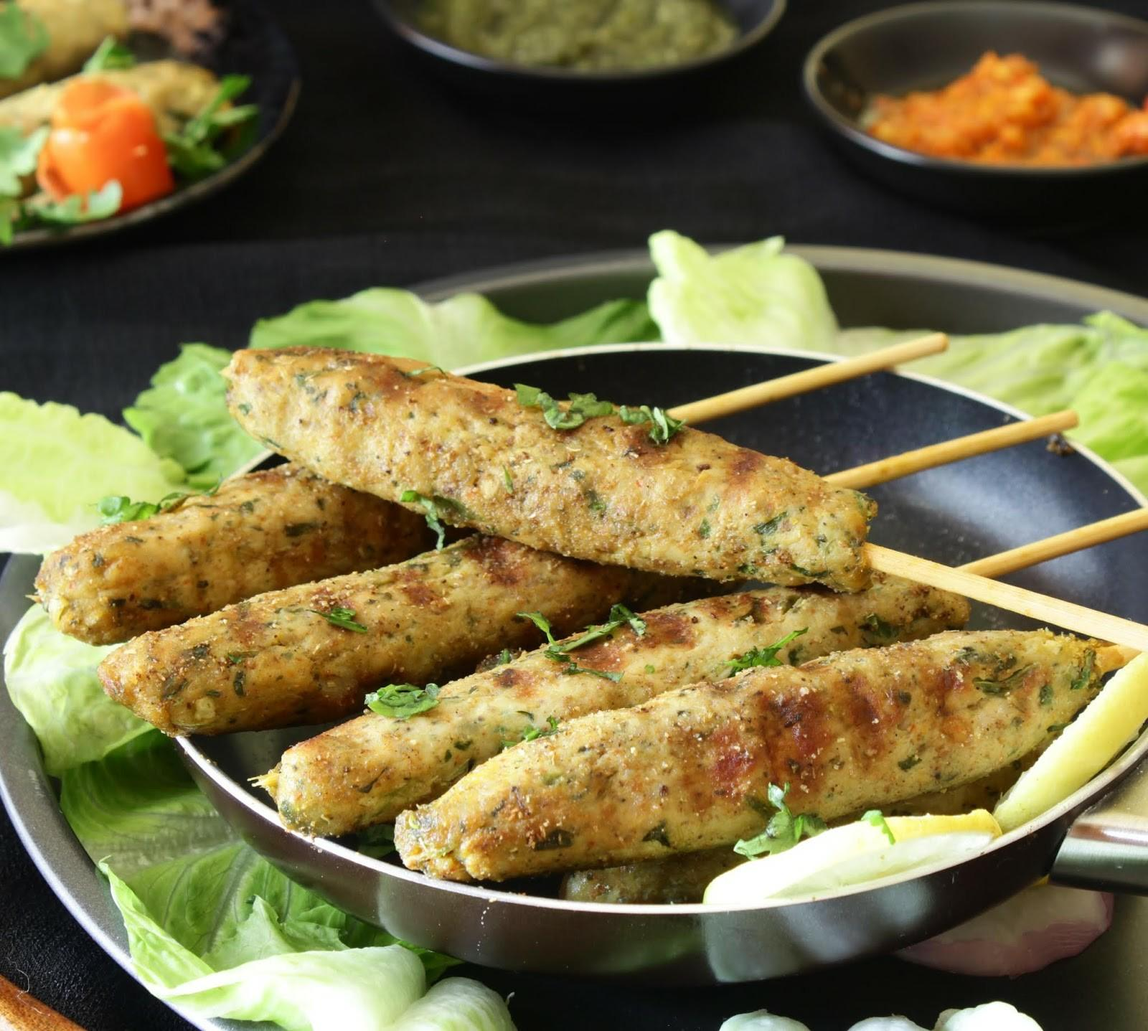Kebab: (266, 573, 969, 835), (396, 628, 1097, 881), (220, 348, 874, 599), (91, 531, 667, 731), (35, 463, 508, 643)
